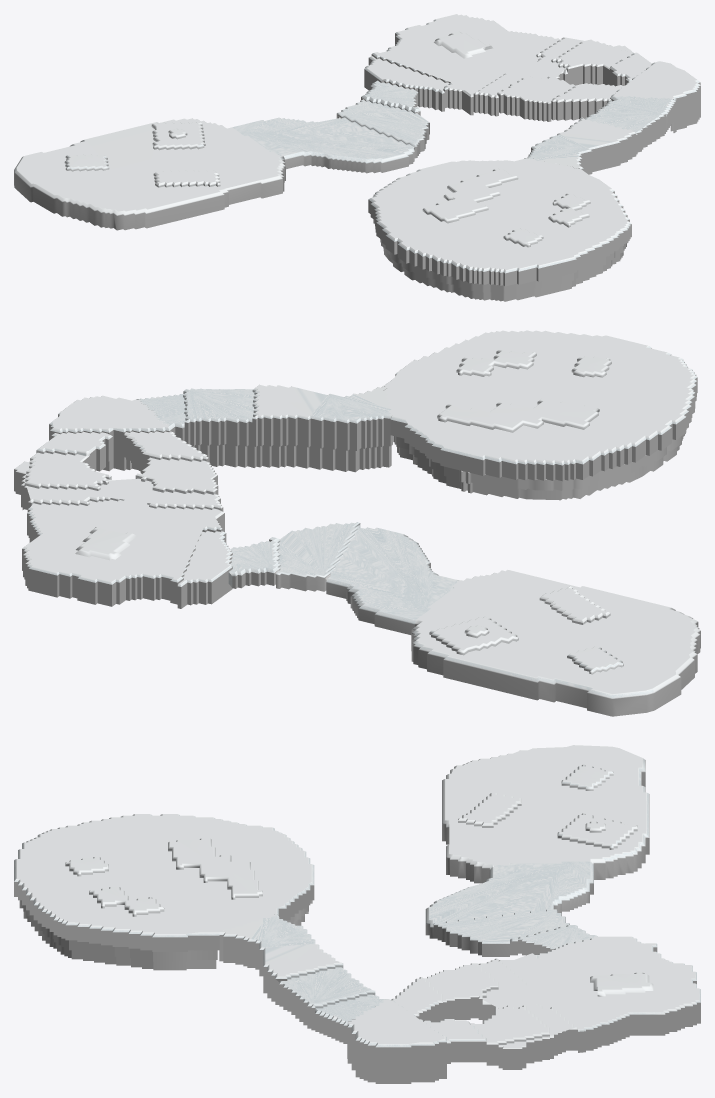
Rendered from Main_Object_Island_reUV.fbx.
The picture shows the model from 3 angles, top to bottom: view 1: azimuth 30°, elevation 25°; view 2: azimuth 150°, elevation 25°; view 3: azimuth 270°, elevation 25°; orthographic projection. The views are drawn at different scales.
Visible parts, largest first — view 1: Polar_Level; view 2: Polar_Level; view 3: Polar_Level.
Part boxes in pixels (x1,y1,x2,y2): Polar_Level: [14, 14, 700, 301]; Polar_Level: [14, 330, 700, 716]; Polar_Level: [14, 745, 700, 1083].
Bounding box in the file's own units: 19431 × 1618 × 17167.
